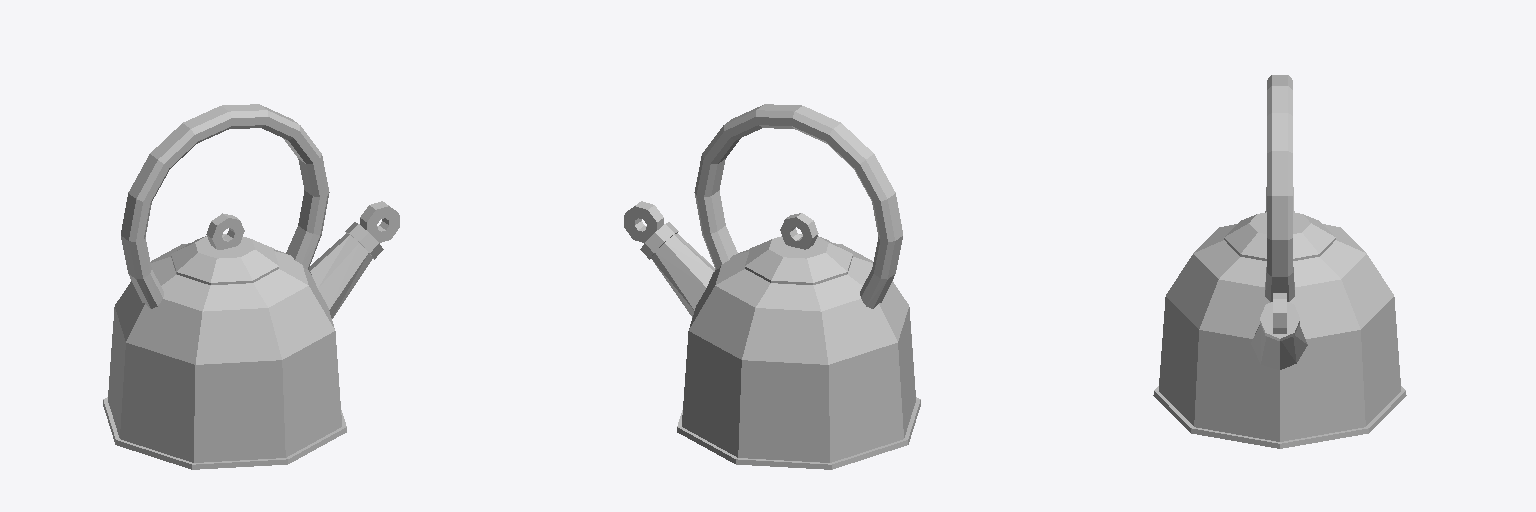
The model's file is misc_kettle.obj.
The picture shows the model from 3 angles: view 1: azimuth 30°, elevation 25°; view 2: azimuth 150°, elevation 25°; view 3: azimuth 270°, elevation 25°; orthographic projection.
Parts seen in each view (by area): view 1: misc_kettle_Cylinder.017, misc_kettle_cover_Cylinder.018, misc_kettle_nozzle_Cylinder.019; view 2: misc_kettle_Cylinder.017, misc_kettle_cover_Cylinder.018, misc_kettle_nozzle_Cylinder.019; view 3: misc_kettle_Cylinder.017, misc_kettle_cover_Cylinder.018, misc_kettle_nozzle_Cylinder.019.
Part boxes in pixels (left/top/right/bottom): misc_kettle_Cylinder.017: left=103, top=104, right=372, bottom=469; misc_kettle_cover_Cylinder.018: left=171, top=213, right=278, bottom=284; misc_kettle_nozzle_Cylinder.019: left=345, top=201, right=399, bottom=259; misc_kettle_Cylinder.017: left=651, top=104, right=920, bottom=469; misc_kettle_cover_Cylinder.018: left=745, top=213, right=852, bottom=284; misc_kettle_nozzle_Cylinder.019: left=624, top=201, right=678, bottom=259; misc_kettle_Cylinder.017: left=1153, top=75, right=1406, bottom=448; misc_kettle_cover_Cylinder.018: left=1224, top=212, right=1335, bottom=260; misc_kettle_nozzle_Cylinder.019: left=1260, top=293, right=1299, bottom=340.
Bounding box in the file's own units: 6.02 × 6.34 × 4.69.